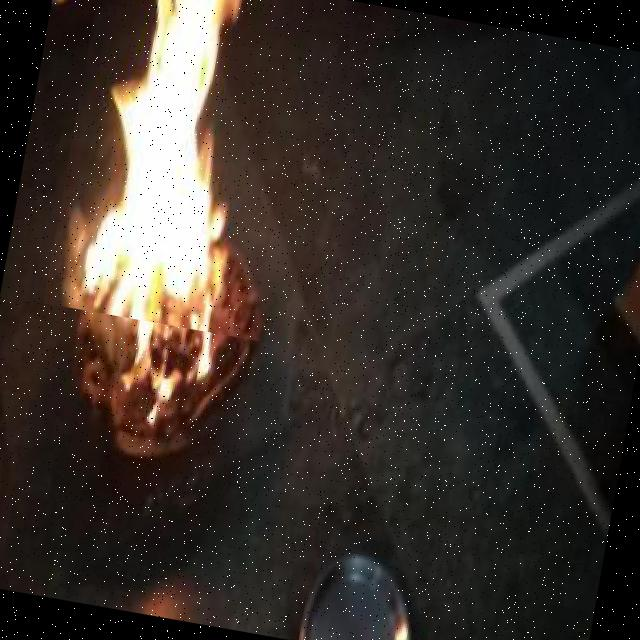fire: (43, 0, 346, 345)
